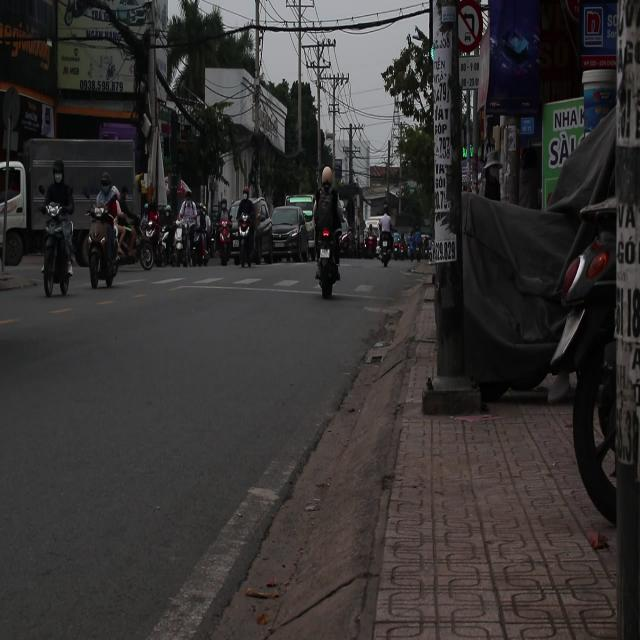car: (268, 205, 313, 263)
motorbike: (37, 206, 76, 298), (82, 204, 124, 288), (136, 206, 168, 270), (153, 208, 179, 269), (237, 210, 254, 269), (218, 210, 235, 265), (376, 232, 394, 266), (365, 224, 379, 256)
